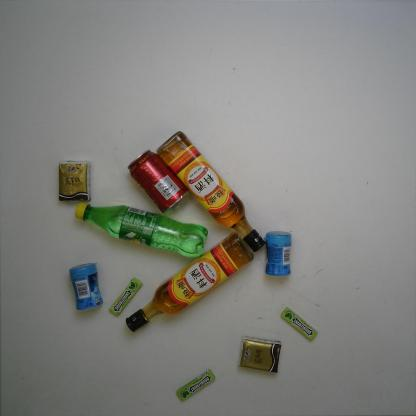Drink: (71, 198, 210, 260), (125, 148, 192, 218)
Gum: (66, 261, 105, 312), (277, 304, 320, 344), (107, 274, 144, 318), (262, 228, 294, 278), (175, 366, 216, 404)
Seasoner: (154, 128, 268, 255), (123, 229, 255, 334)
Tissue: (235, 334, 283, 376), (55, 158, 93, 205)
